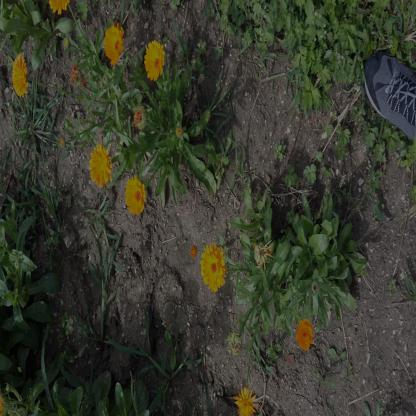marigold: (201, 246, 226, 289), (89, 144, 113, 186), (145, 42, 165, 80), (126, 178, 145, 214), (105, 26, 123, 63), (13, 55, 27, 95), (297, 321, 314, 351)
